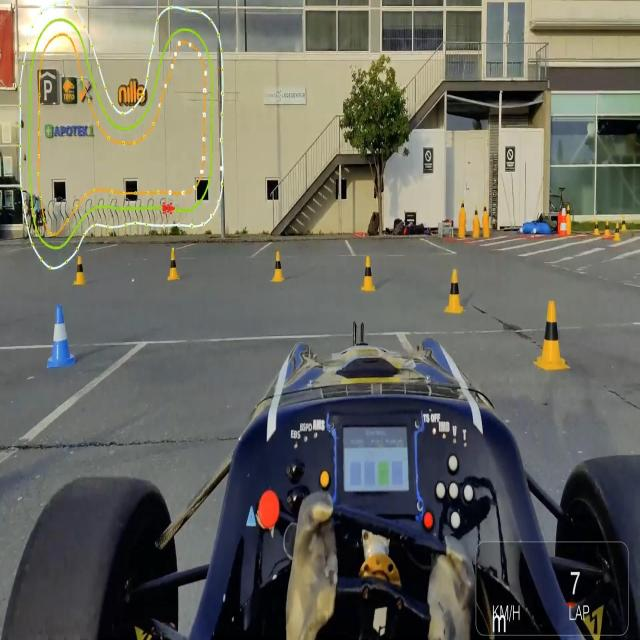blue_cone: (45, 302, 77, 370)
large_orange_cone: (560, 206, 568, 239)
yellow_cone: (532, 296, 570, 374), (442, 268, 466, 316), (359, 254, 379, 293), (270, 248, 288, 286), (167, 245, 181, 283), (74, 255, 88, 287), (614, 220, 620, 240), (566, 204, 572, 224), (473, 204, 479, 223), (594, 218, 600, 236), (621, 215, 627, 233), (605, 218, 610, 238), (483, 202, 487, 222), (460, 200, 465, 213)
